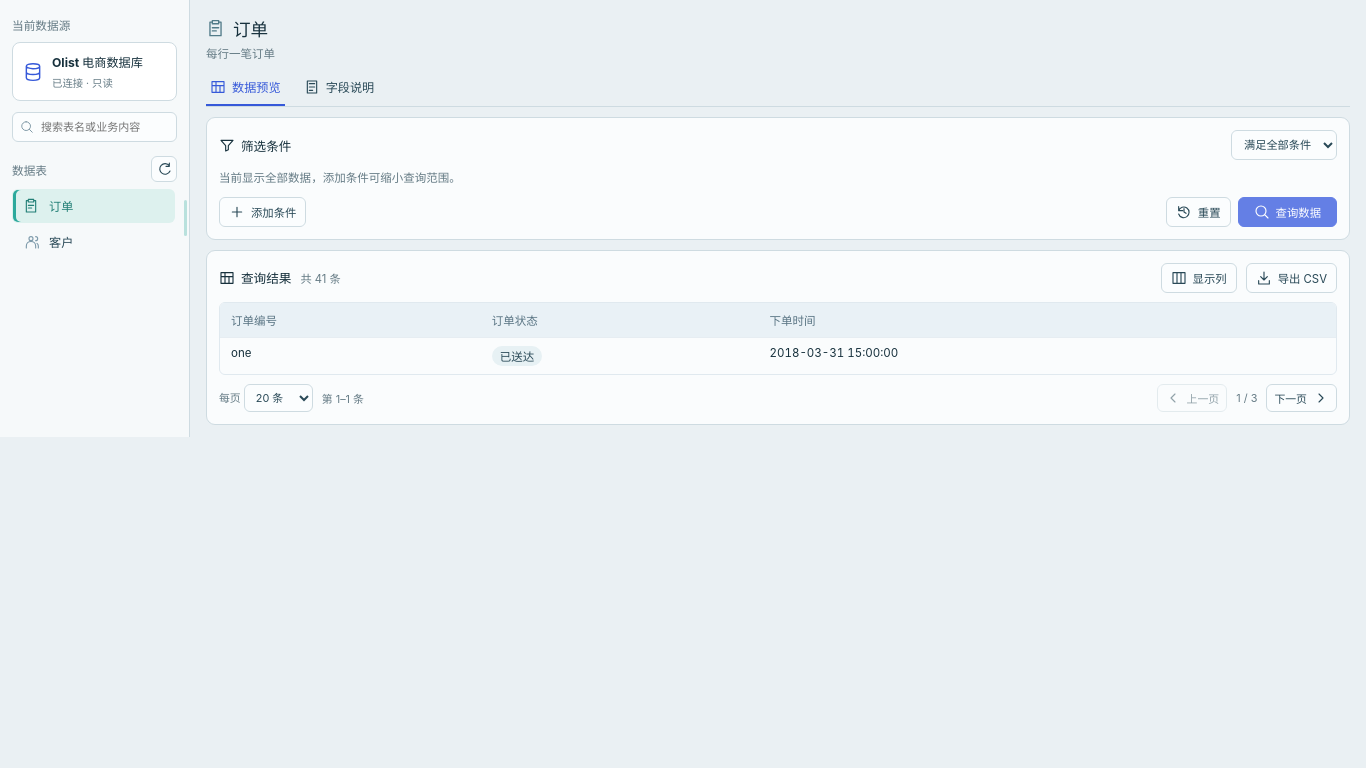
Test case: 导出已提交条件和显示列，后端导出上限错误可见
Expected: the text "one" is shown, top-left (231, 346), bottom-right (251, 360)
Click the button "显示列".
click(1199, 278)  # box top-left (1161, 263), bottom-right (1237, 293)
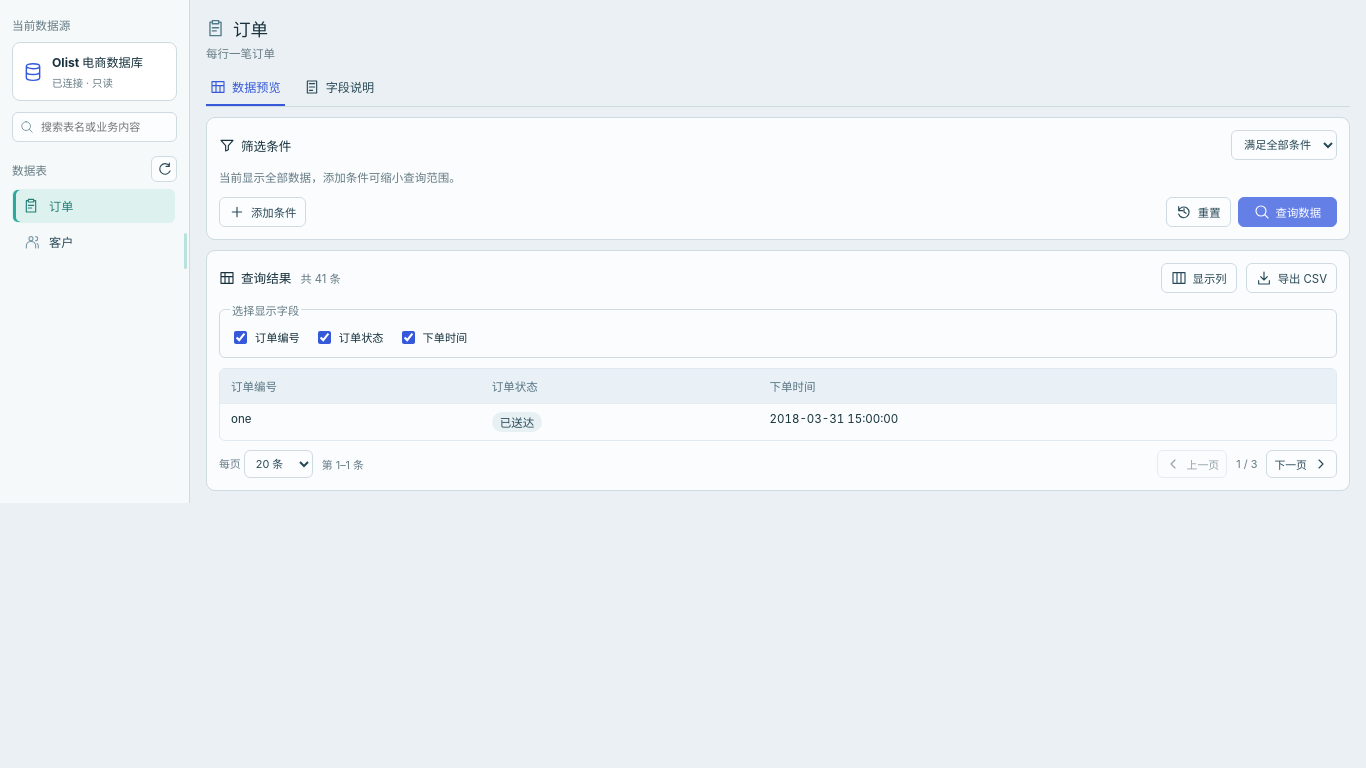
Click the checkbox labelled "订单状态".
click(324, 337)  # box top-left (318, 331), bottom-right (331, 344)
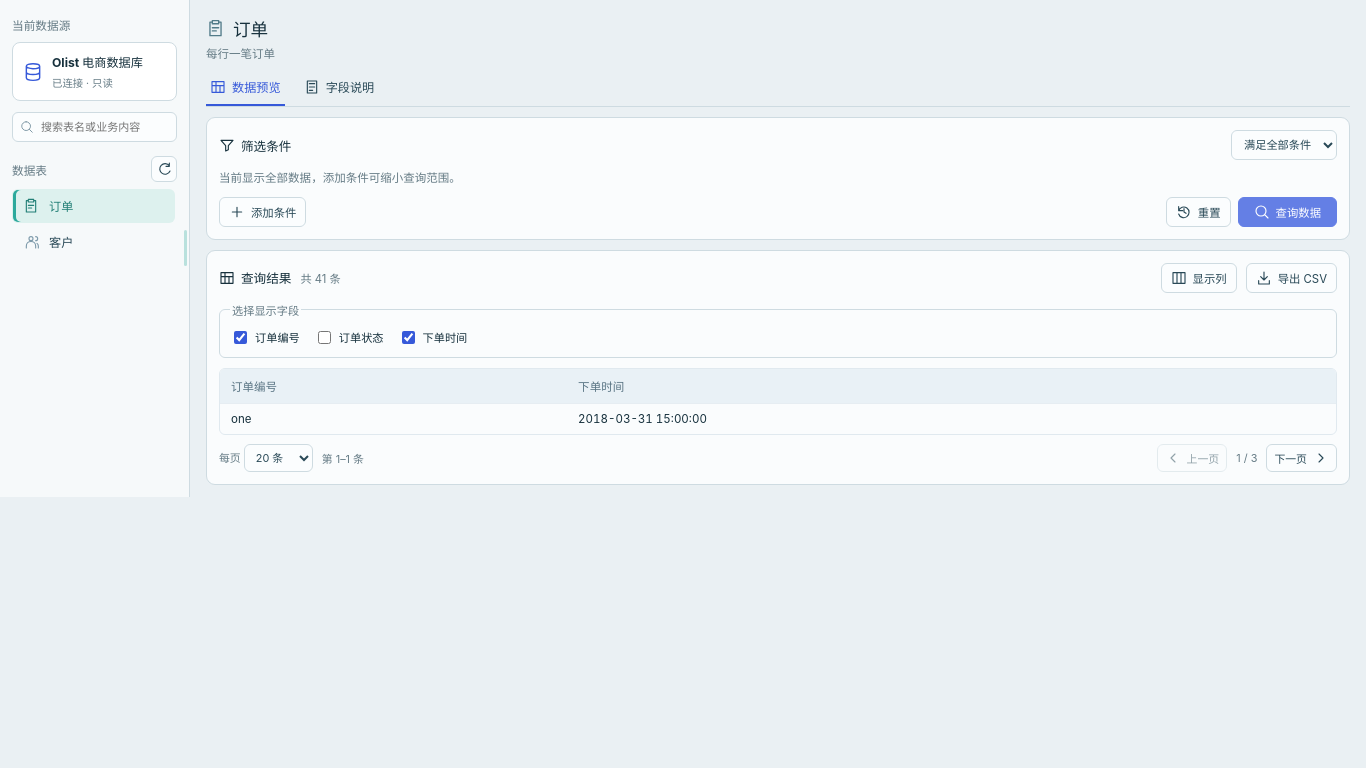
Click the button "添加条件".
click(263, 212)  # box top-left (219, 197), bottom-right (306, 227)
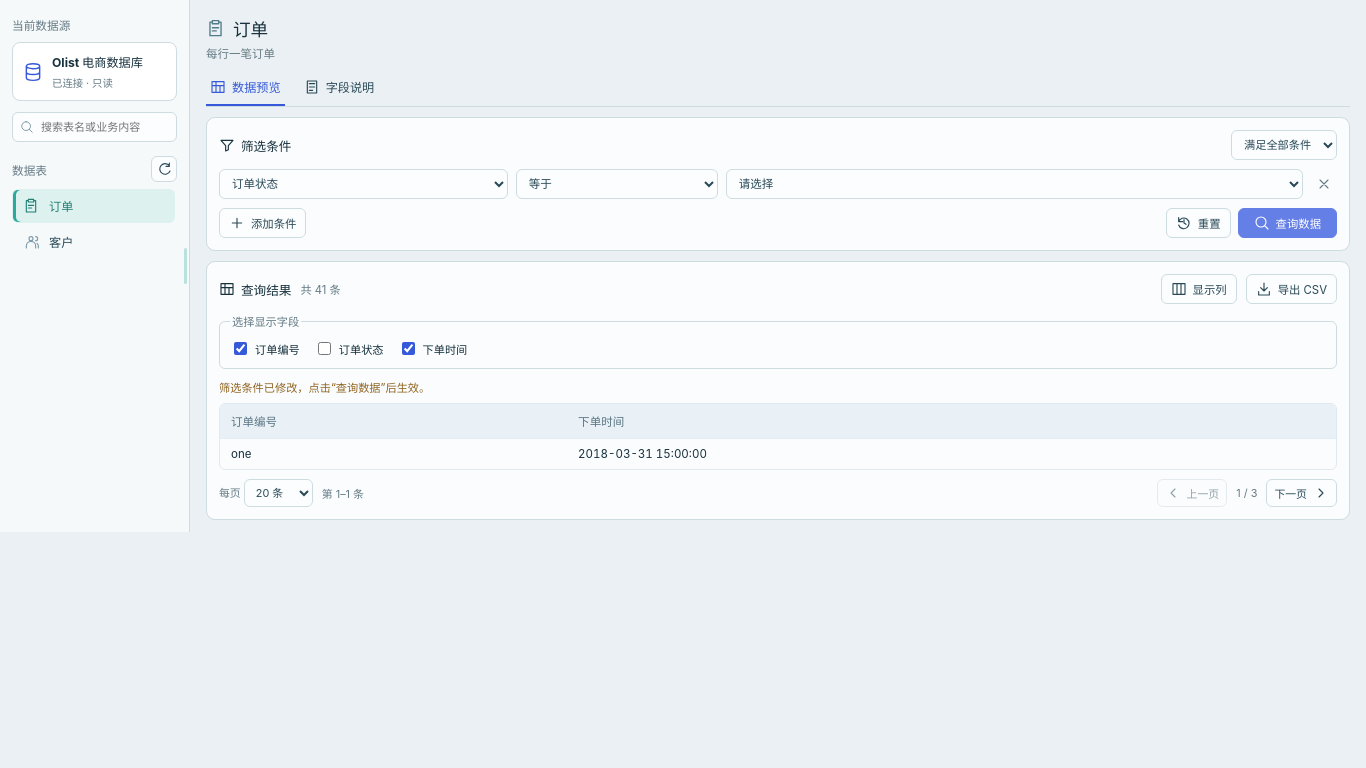
Select "已送达" in the dropdown named "条件 1 筛选值" at (1014, 184), box top-left (726, 169), bottom-right (1303, 199)
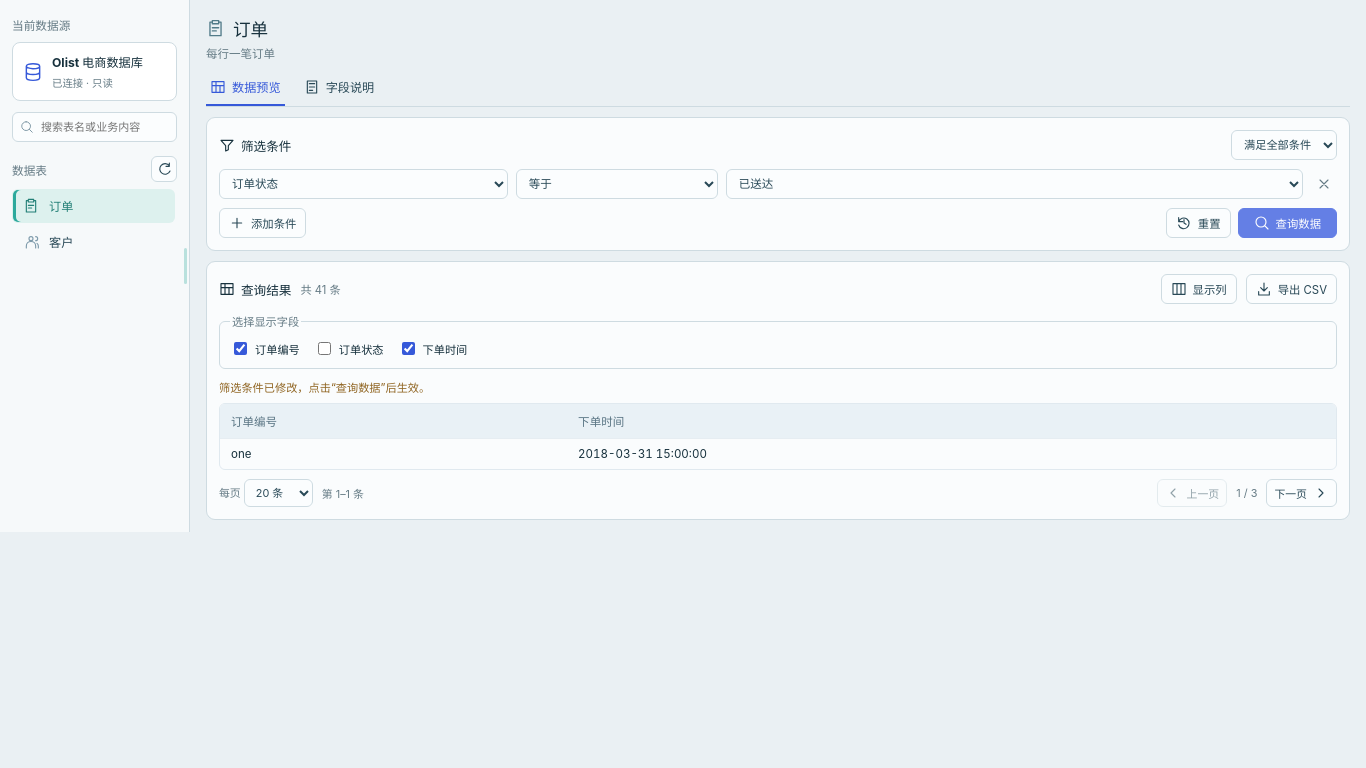
Click the button "导出 CSV".
click(1291, 289)  # box top-left (1246, 274), bottom-right (1337, 304)
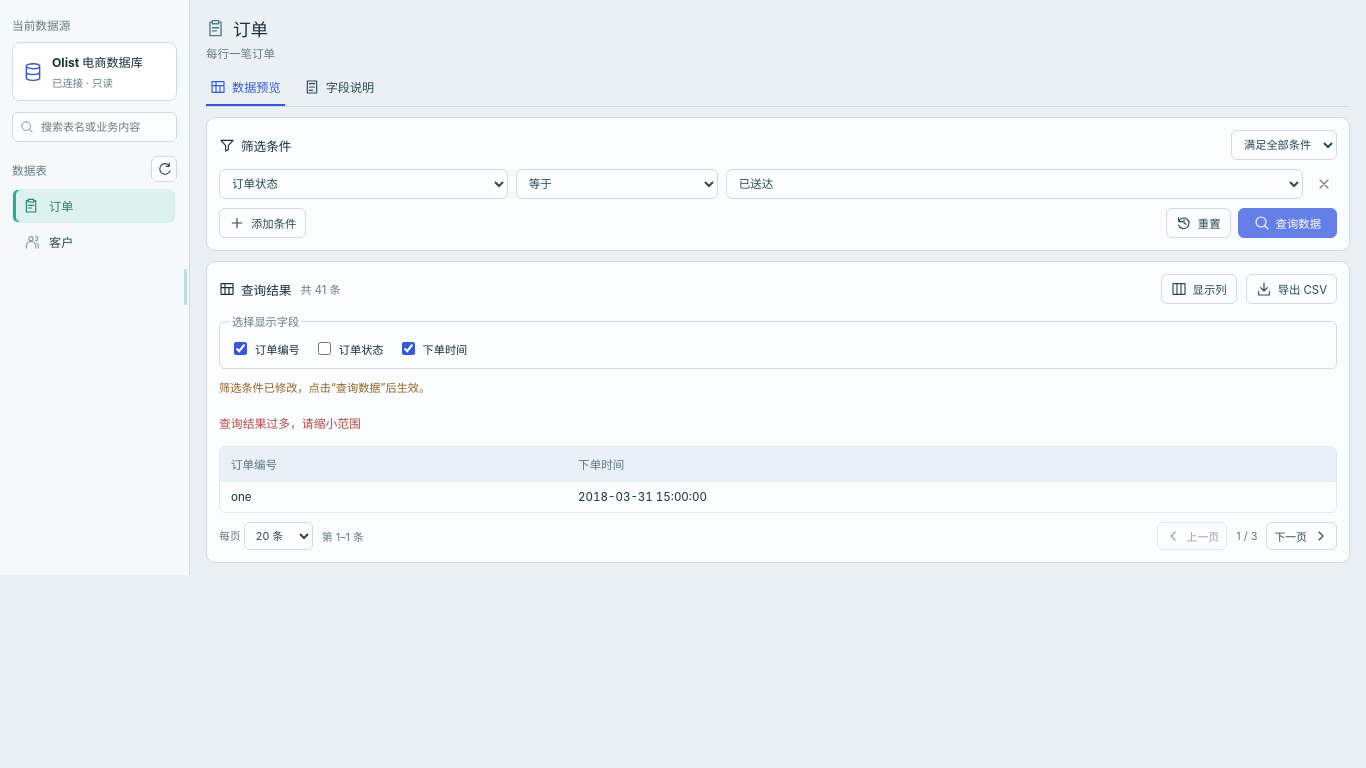
Now the text "查询结果过多，请缩小范围" is shown, box top-left (219, 417), bottom-right (361, 431)
